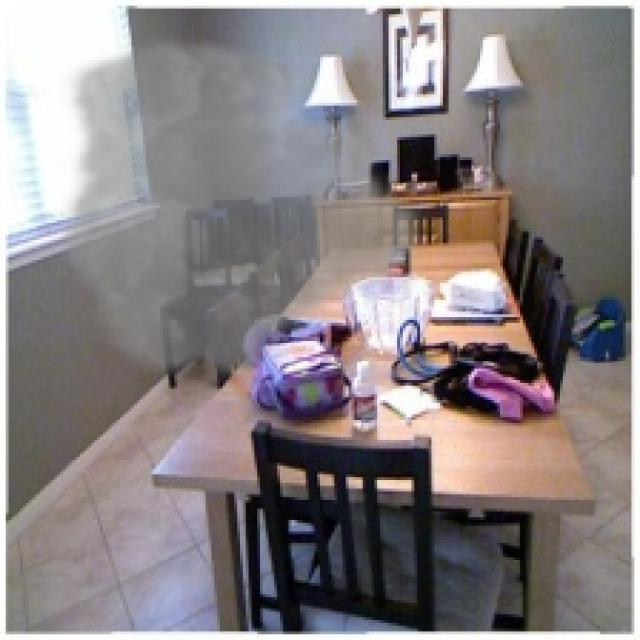Smoke: (57, 31, 432, 388)
